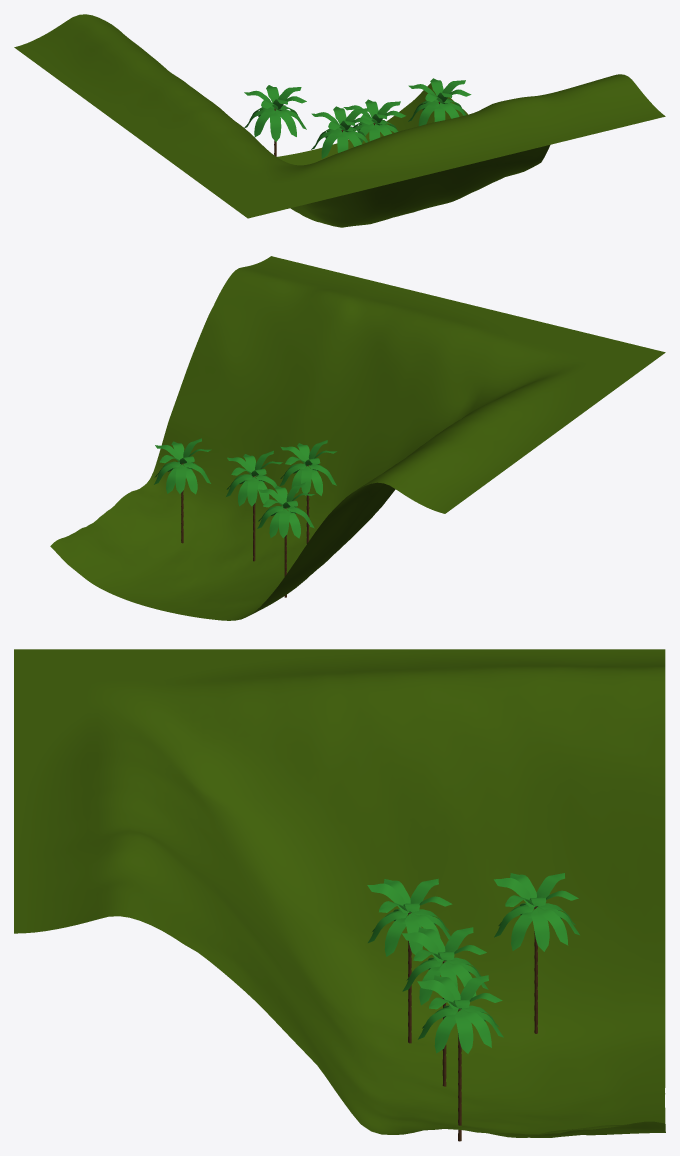
File: terreno derecha arriba .fbx
3 views of the same model, one above another, from view 1: azimuth 30°, elevation 25°; view 2: azimuth 150°, elevation 25°; view 3: azimuth 270°, elevation 25° (orthographic). The views are drawn at different scales.
Parts seen in each view (by area): view 1: derecha arriba; view 2: derecha arriba; view 3: derecha arriba.
Part boxes in pixels (left/top/right/bottom): derecha arriba: left=14, top=14, right=665, bottom=227; derecha arriba: left=50, top=256, right=665, bottom=620; derecha arriba: left=14, top=649, right=665, bottom=1141.
Bounding box in the file's own units: 34964 × 14194 × 30014.
